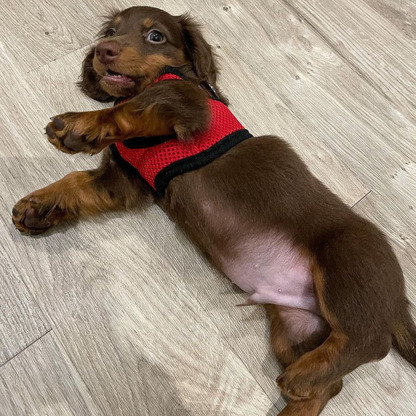dachshund: (81, 12, 404, 398)
